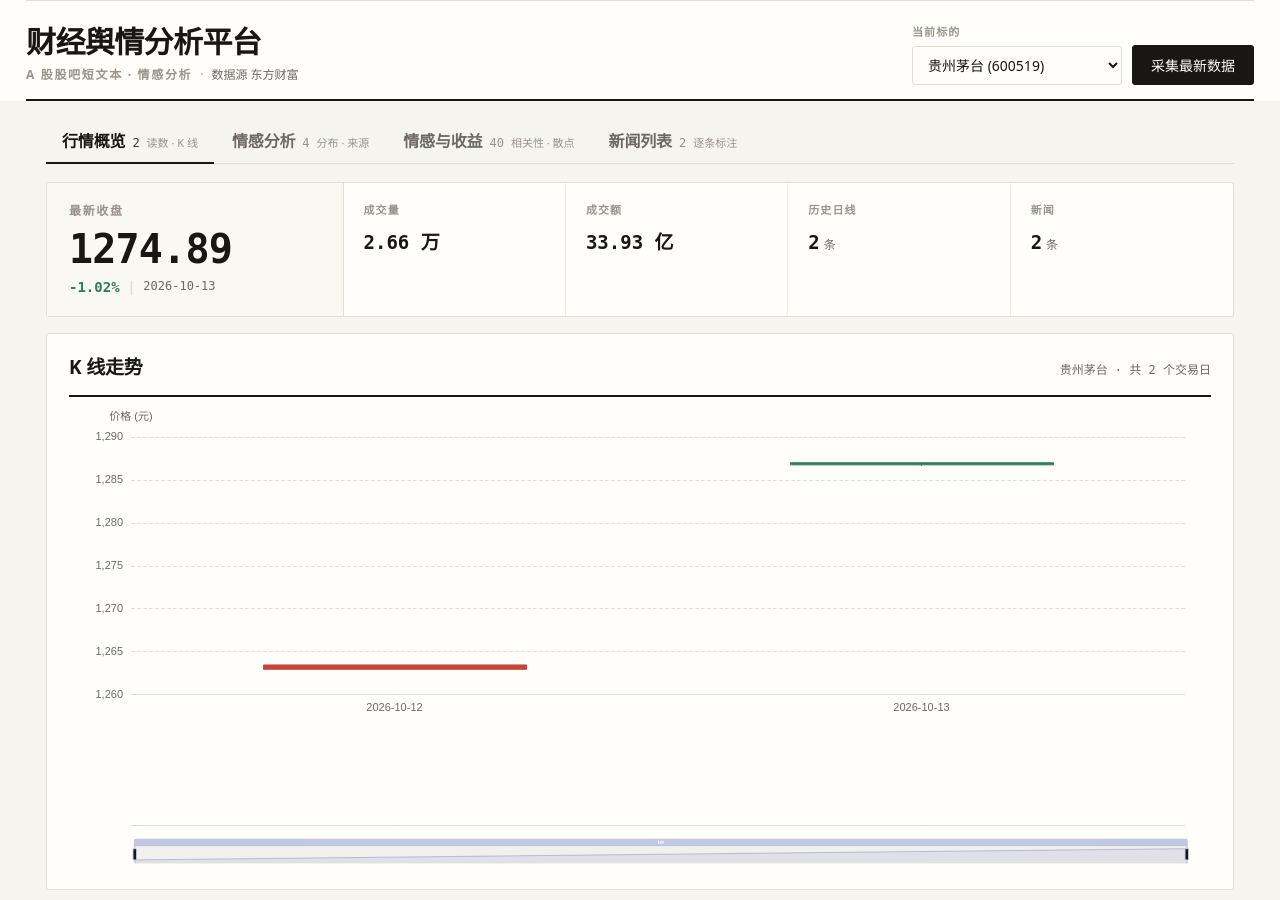
Test: 情感分析面板 › 展示情感条数与占比
Step 1. Click the tab "情感分析 4 分布 · 来源" → (301, 141), box [216, 119, 385, 163]
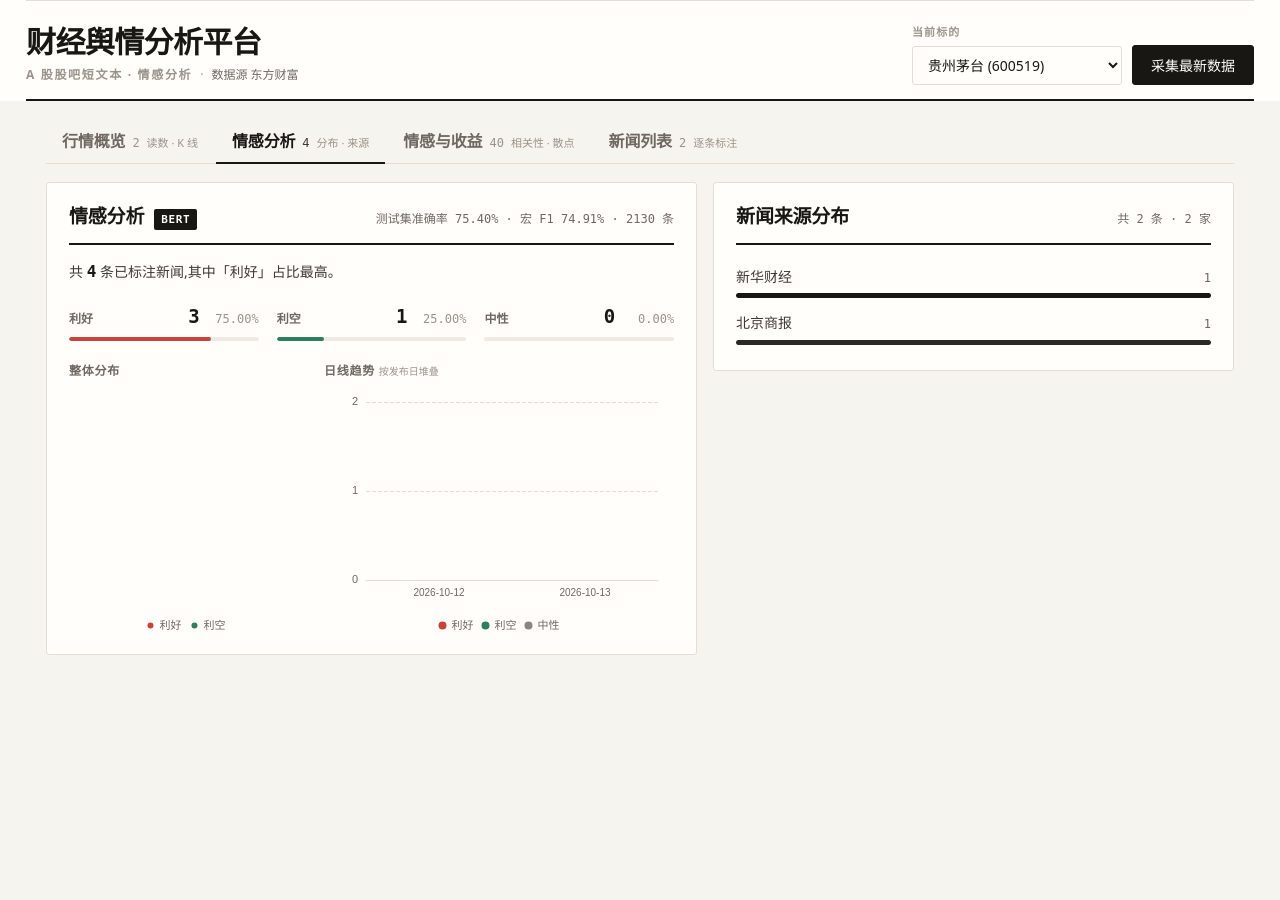
Expected: the text "共 4 条已标注新闻" is shown, [69, 262, 342, 281]
Expected: the text "75.00%" is shown, [215, 312, 259, 326]
Expected: the text "25.00%" is shown, [423, 312, 466, 326]
